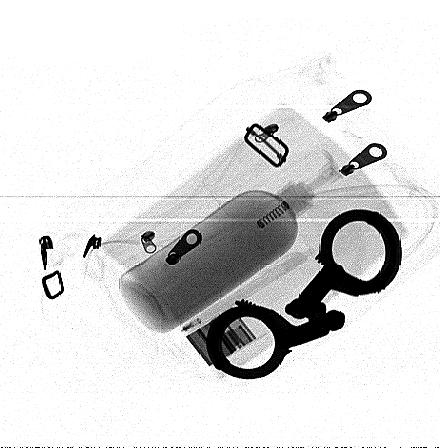HandCuffs: (206, 209, 403, 380)
